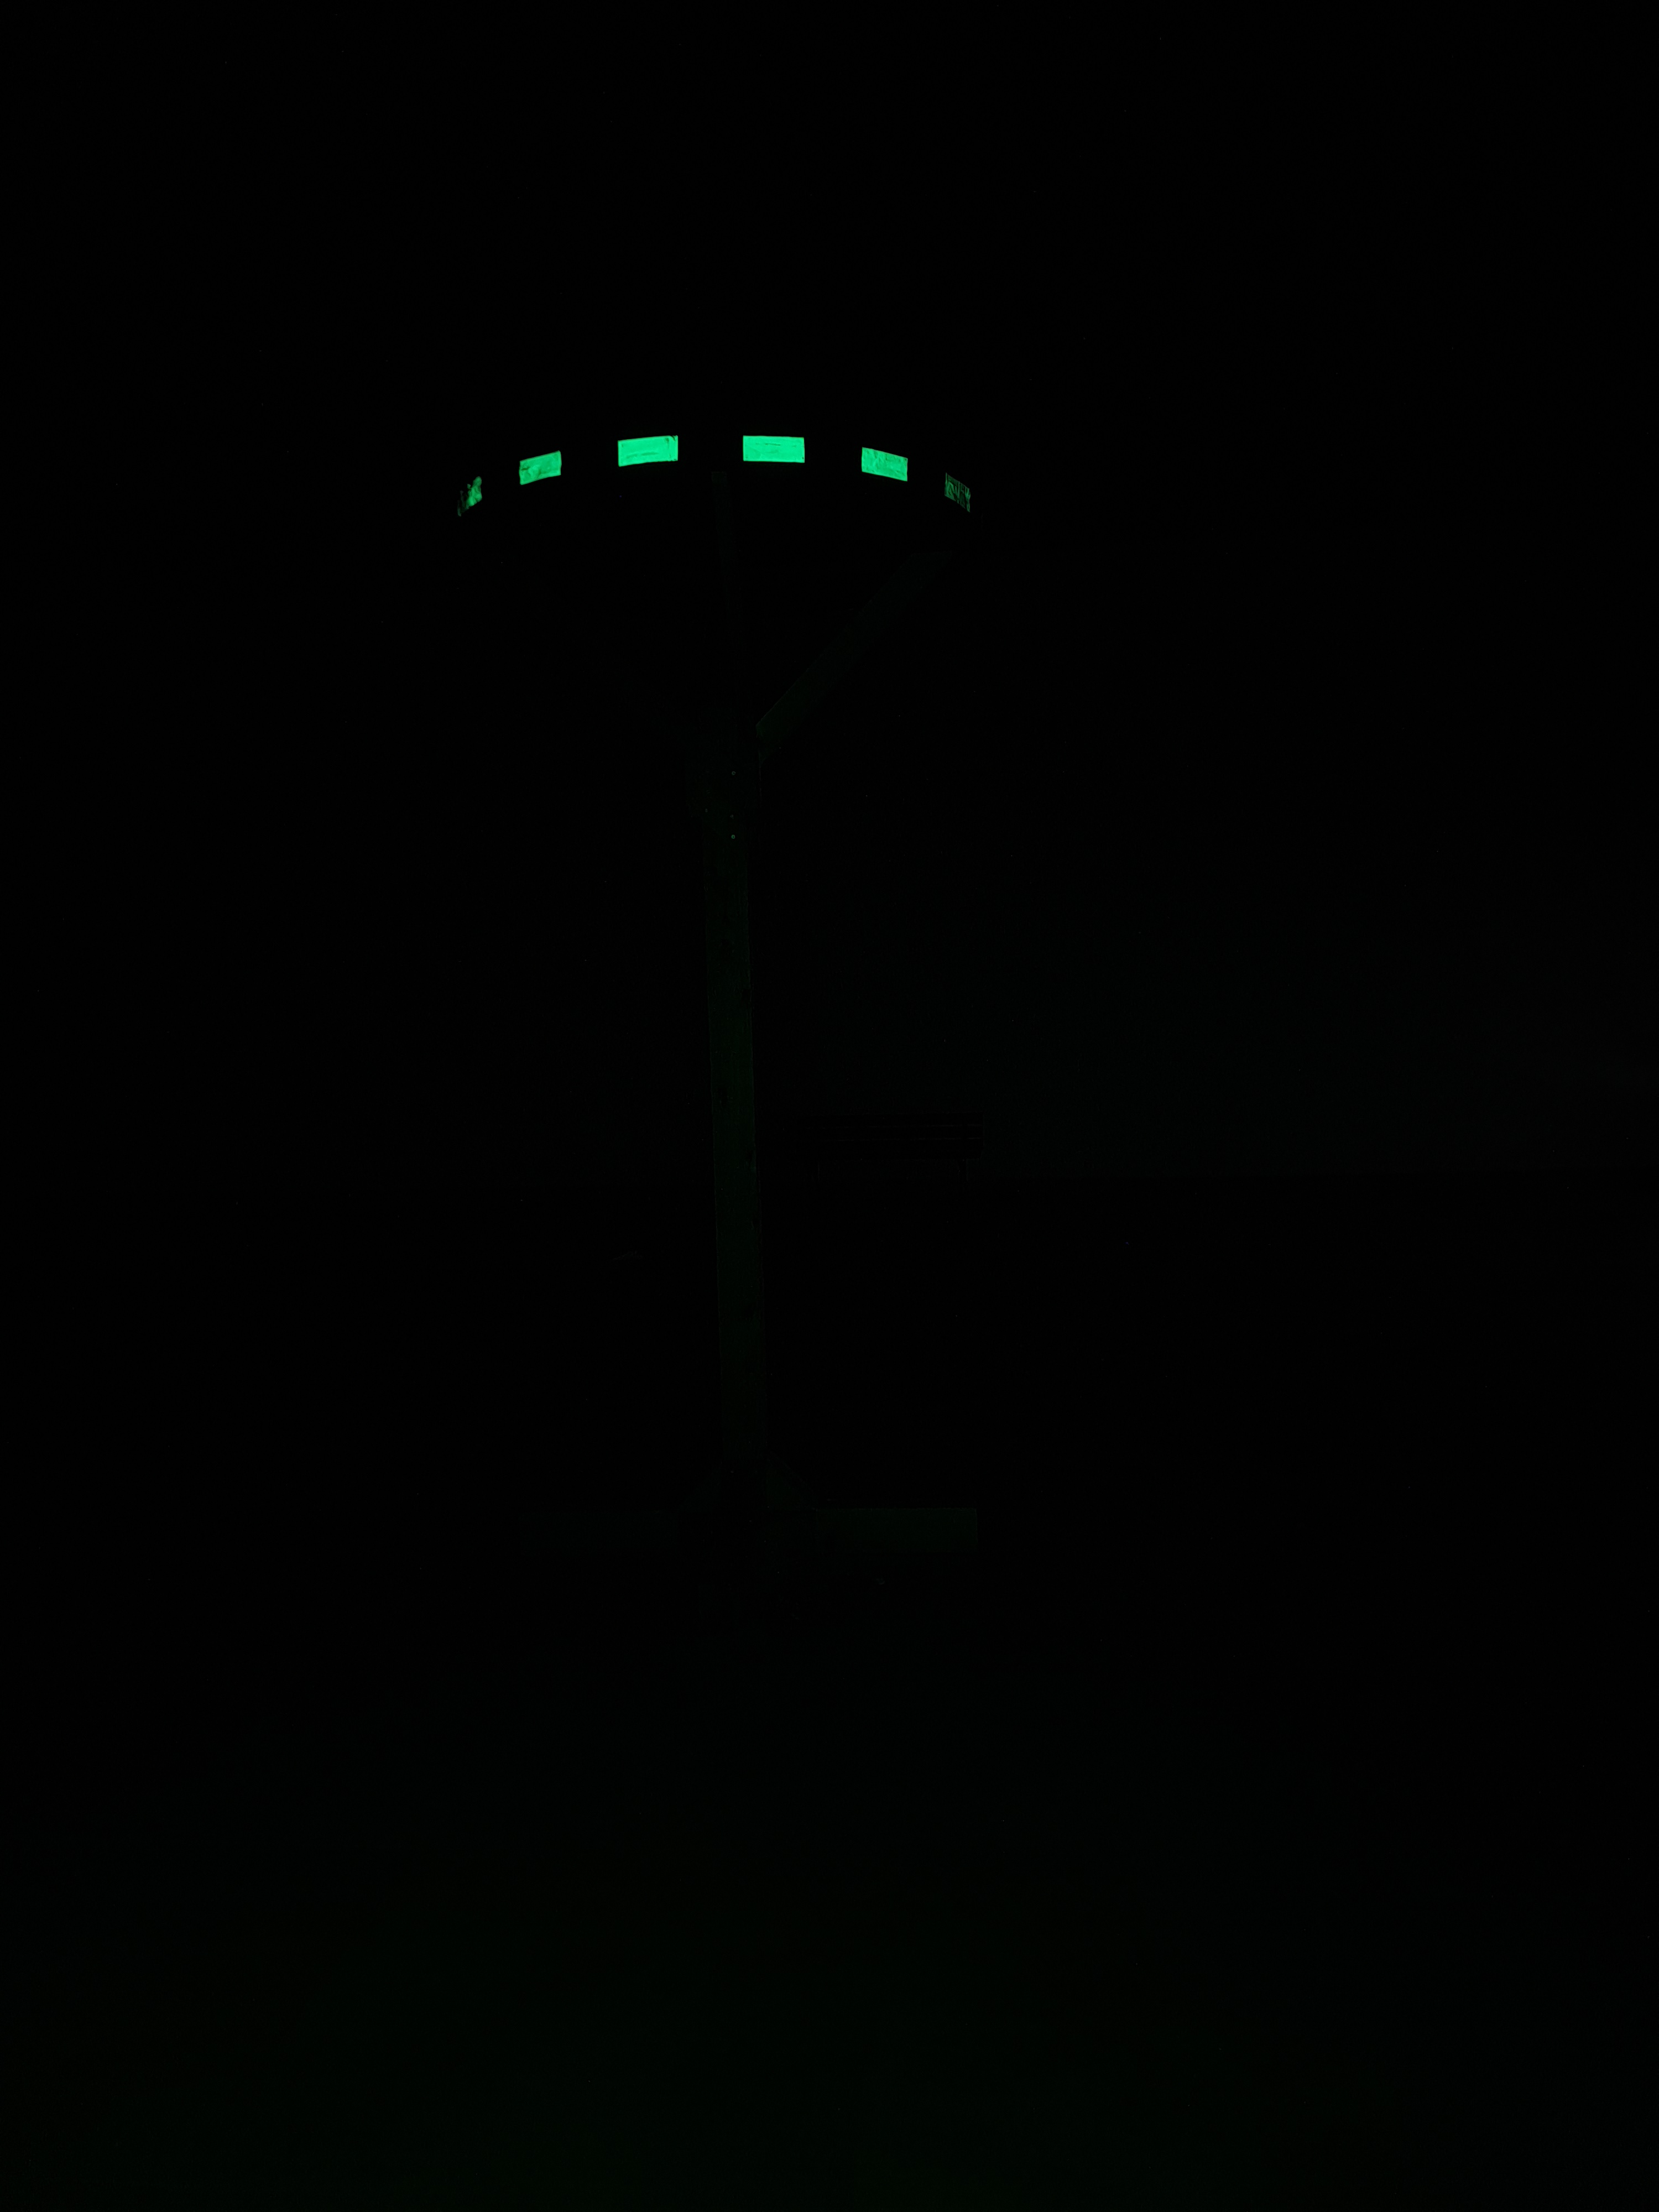hoop: (446, 421, 972, 538)
